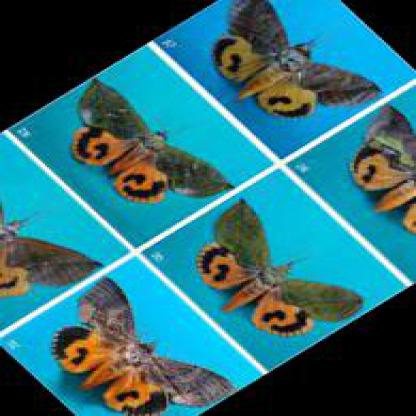fruit sucking moth: (196, 197, 366, 337), (53, 281, 229, 412), (73, 78, 238, 200), (215, 1, 382, 116)
